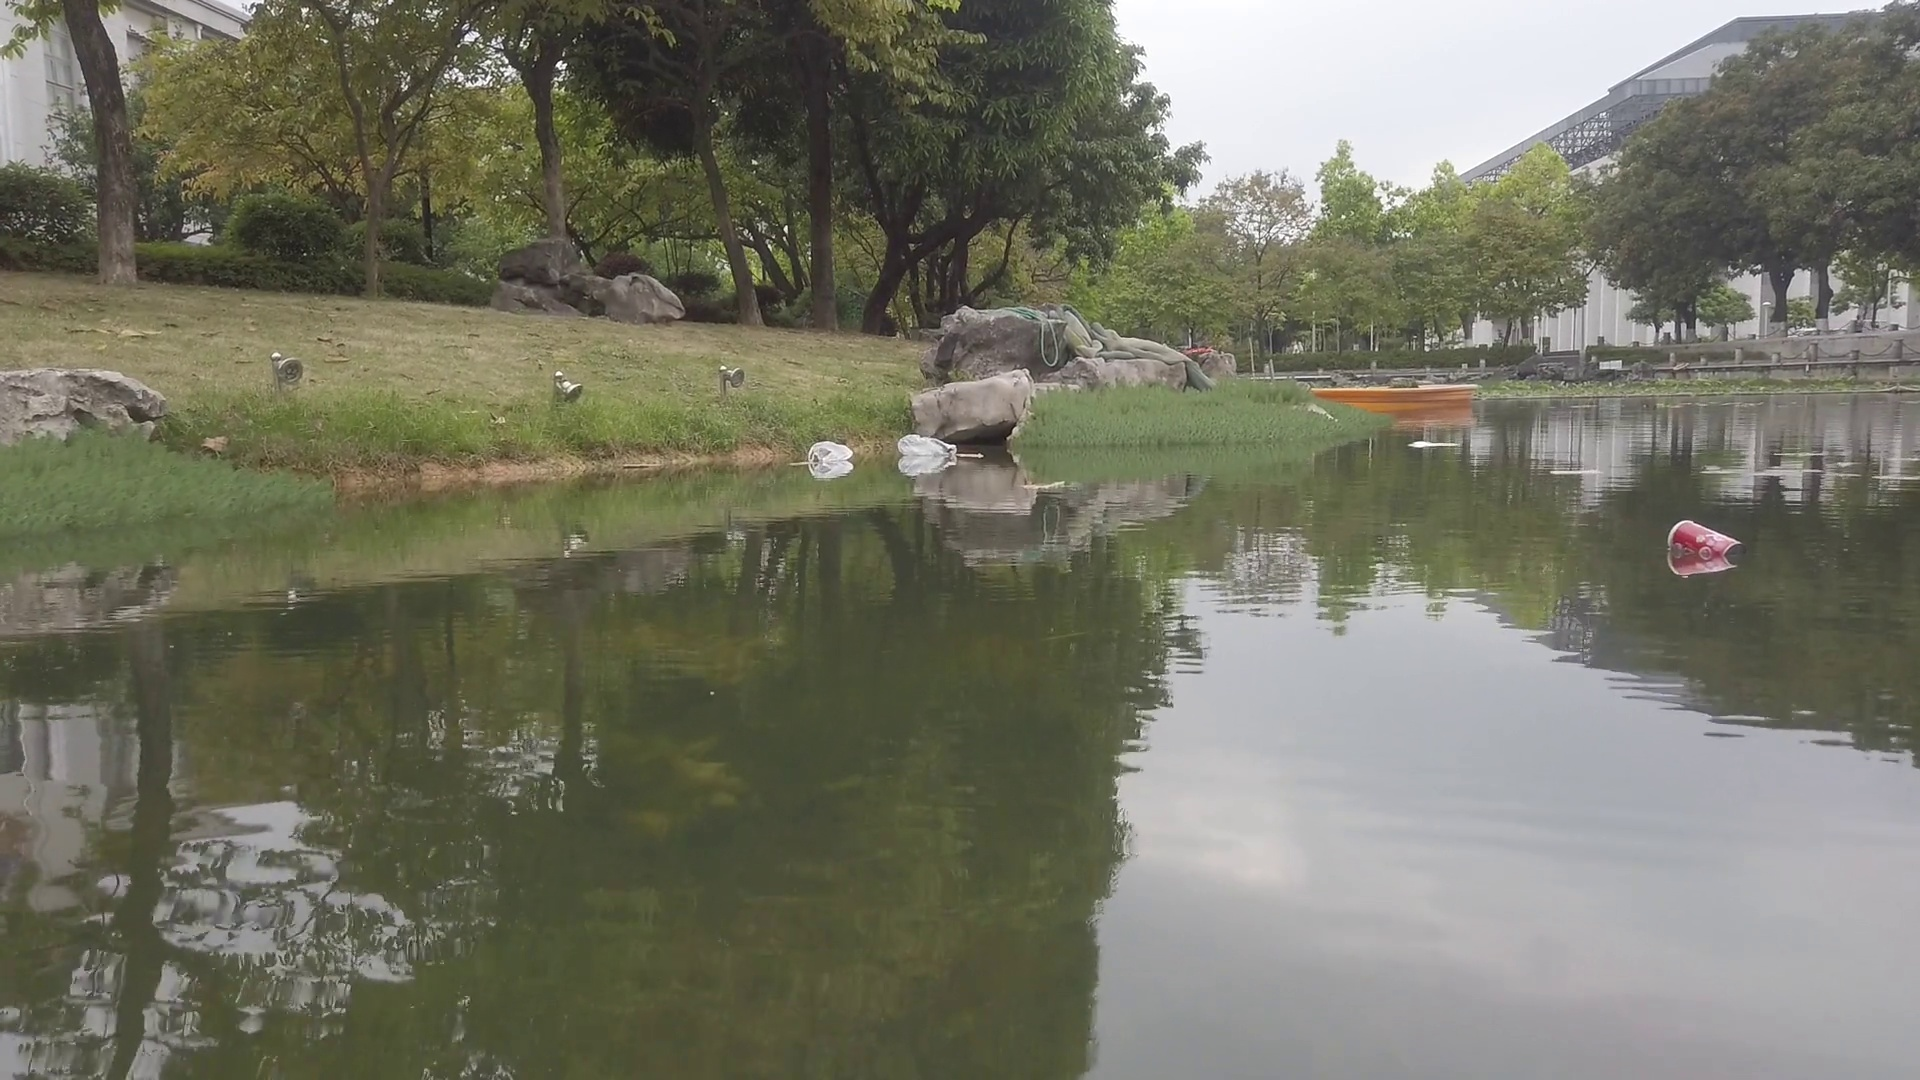bottle: (1668, 520, 1745, 564)
paper: (1404, 436, 1466, 454), (1551, 464, 1607, 477), (1026, 480, 1069, 491), (622, 460, 667, 469), (949, 451, 982, 458), (793, 459, 804, 473)
plastic: (898, 434, 957, 458), (807, 442, 855, 463)
